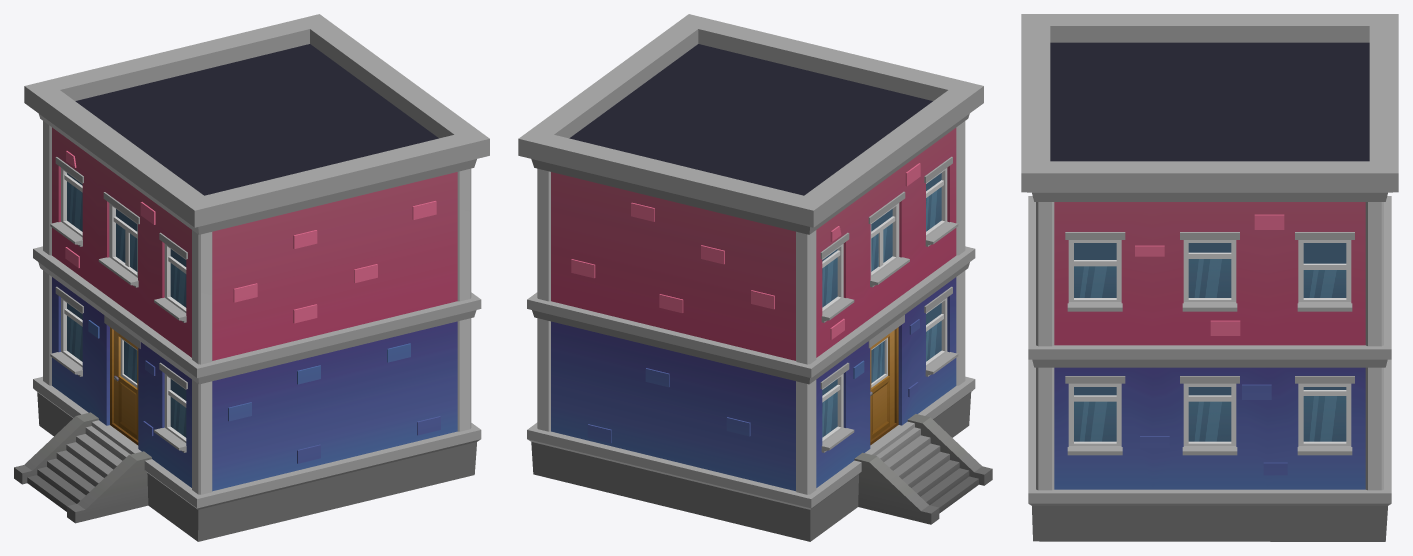
The model's file is Building_2_1_B.fbx.
The picture shows the model from 3 angles, left to right: view 1: azimuth 30°, elevation 25°; view 2: azimuth 150°, elevation 25°; view 3: azimuth 270°, elevation 25°; orthographic projection. The views are drawn at different scales.
Parts seen in each view (by area): view 1: Building_2_1_B; view 2: Building_2_1_B; view 3: Building_2_1_B.
Boxes of the visible parts, box(x1,y1,x2,y2) form: Building_2_1_B: box(14, 14, 489, 541); Building_2_1_B: box(518, 14, 992, 541); Building_2_1_B: box(1021, 14, 1398, 541).
Bounding box in the file's own units: 755 × 678 × 620.
